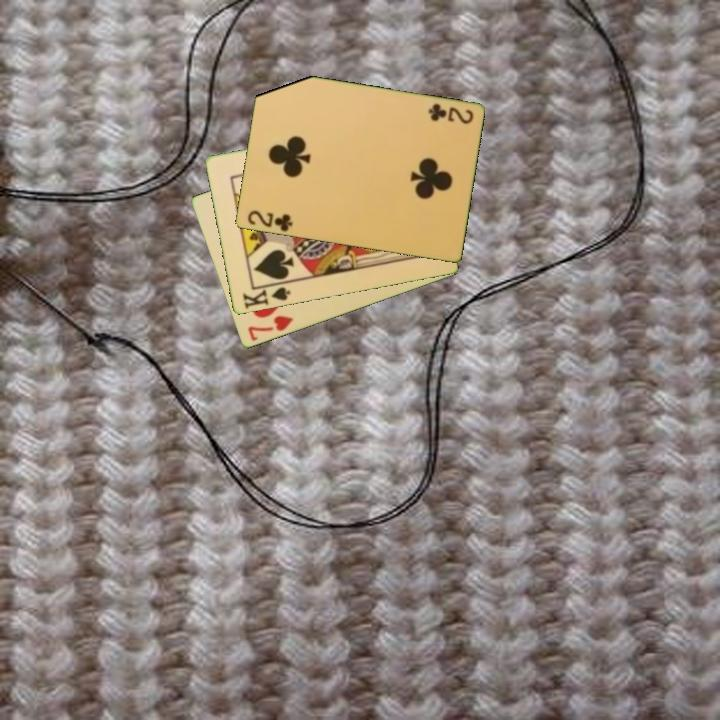2c: (244, 207, 295, 234), (425, 100, 476, 127)
7h: (244, 312, 296, 344)
Ks: (239, 284, 293, 312)
